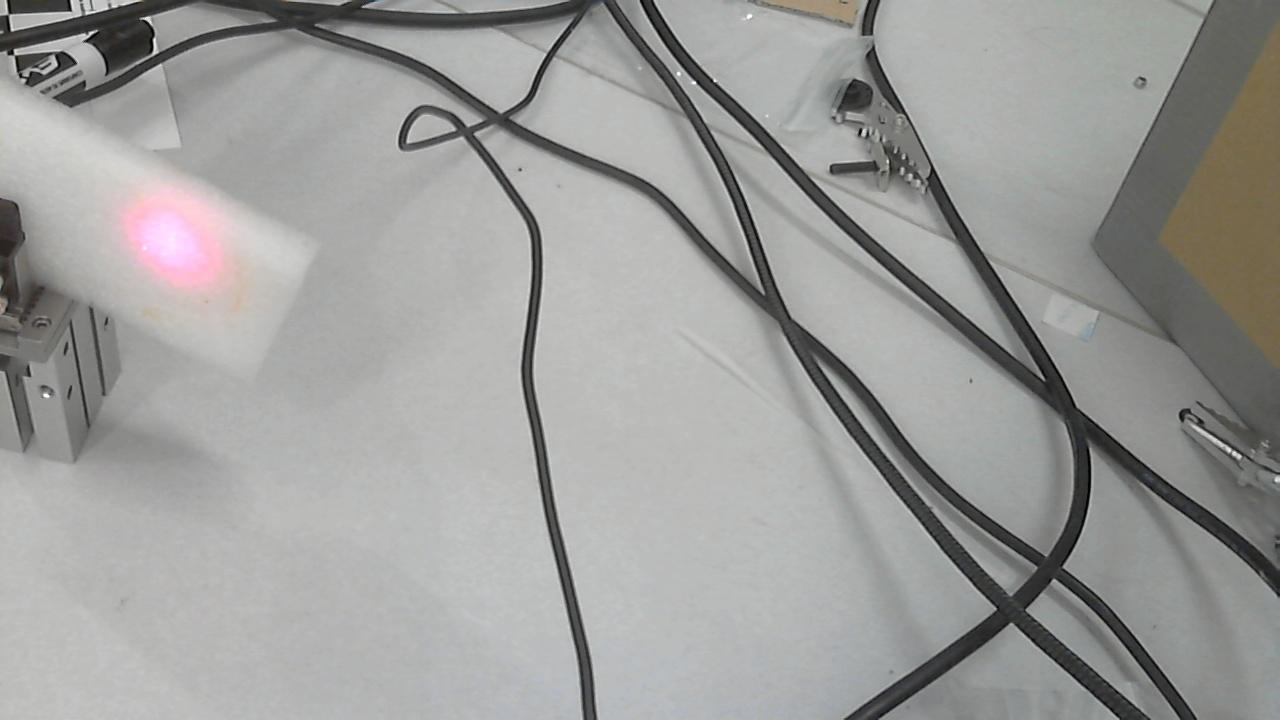Object white rectangular foam block - Material Foam - Color white - Pdfname LpbA: (116, 202, 252, 303)
